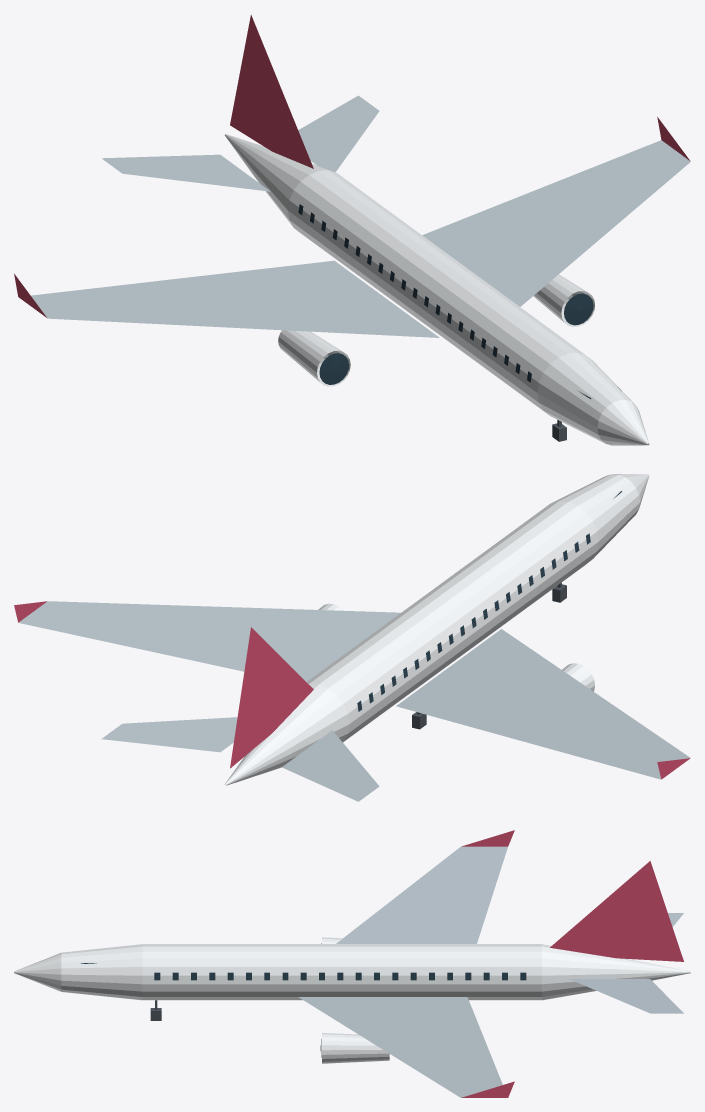
Rendered from b777-THY.gltf.
3 renders of one model, top to bottom at view 1: azimuth 30°, elevation 25°; view 2: azimuth 150°, elevation 25°; view 3: azimuth 270°, elevation 25°, orthographic. The views are drawn at different scales.
Parts seen in each view (by area): view 1: object 1; view 2: object 1; view 3: object 1.
Part boxes in pixels (x1,y1,x2,y2): object 1: (14,15,690,445); object 1: (14,474,690,801); object 1: (14,830,690,1097).
Bounding box in the file's own units: 65 × 19.16 × 74.
